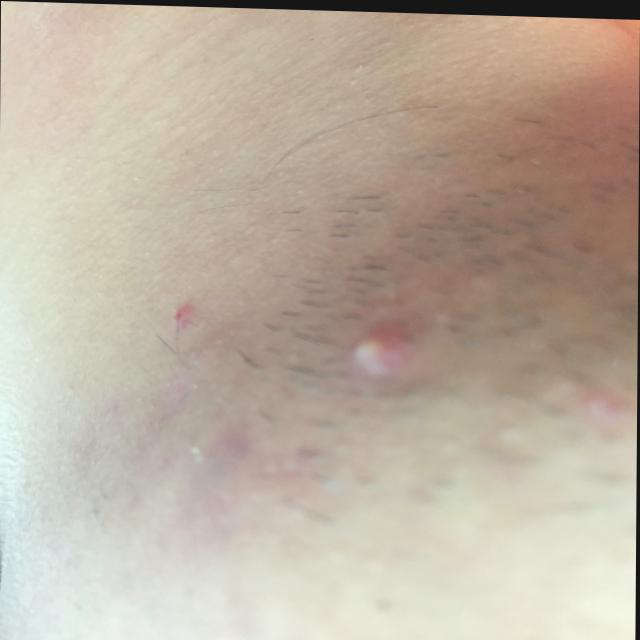blackheads: (329, 309, 438, 403)
